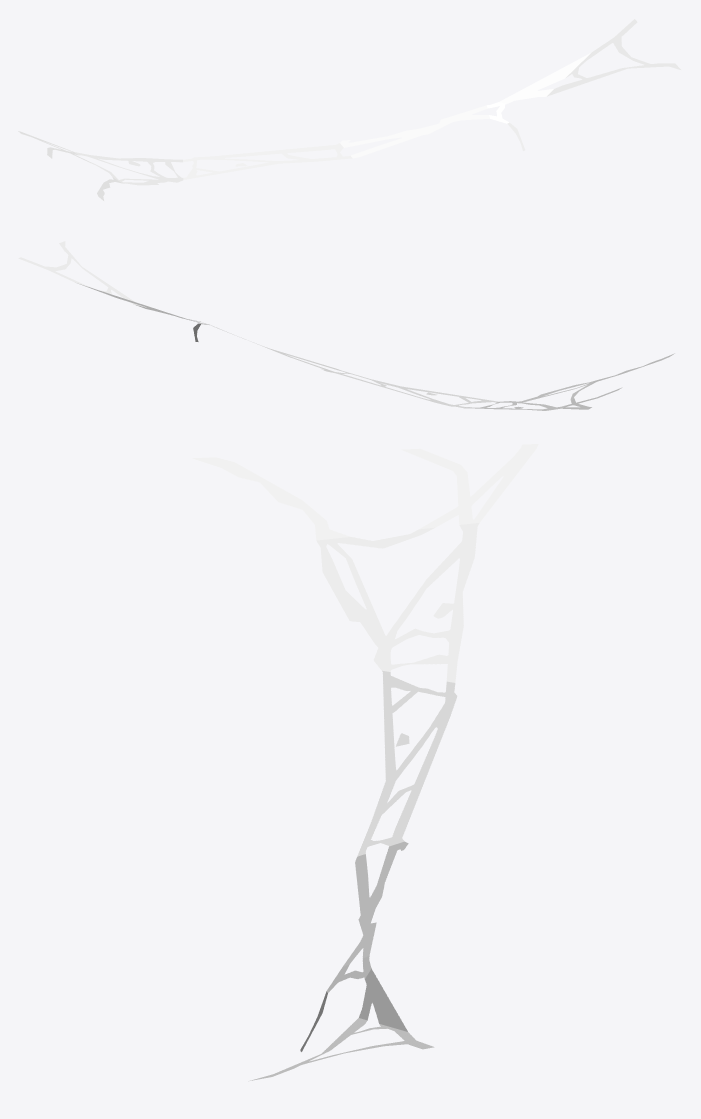
File: SM_Env_SpiderWeb_04.fbx
The picture shows the model from 3 angles, top to bottom: view 1: azimuth 30°, elevation 25°; view 2: azimuth 150°, elevation 25°; view 3: azimuth 270°, elevation 25°; orthographic projection. The views are drawn at different scales.
Visible parts, largest first — view 1: SM_Env_SpiderWeb_04; view 2: SM_Env_SpiderWeb_04; view 3: SM_Env_SpiderWeb_04.
Part boxes in pixels (box(x1,y1,x2,y2)): SM_Env_SpiderWeb_04: box(18, 19, 680, 200); SM_Env_SpiderWeb_04: box(18, 241, 674, 410); SM_Env_SpiderWeb_04: box(192, 444, 538, 1081).
Bounding box in the file's own units: 142 × 24.96 × 42.28.
